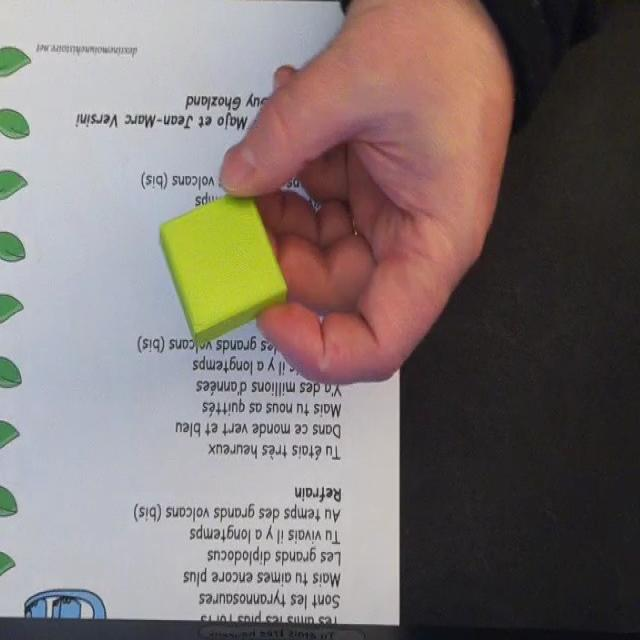square: (158, 188, 288, 343)
